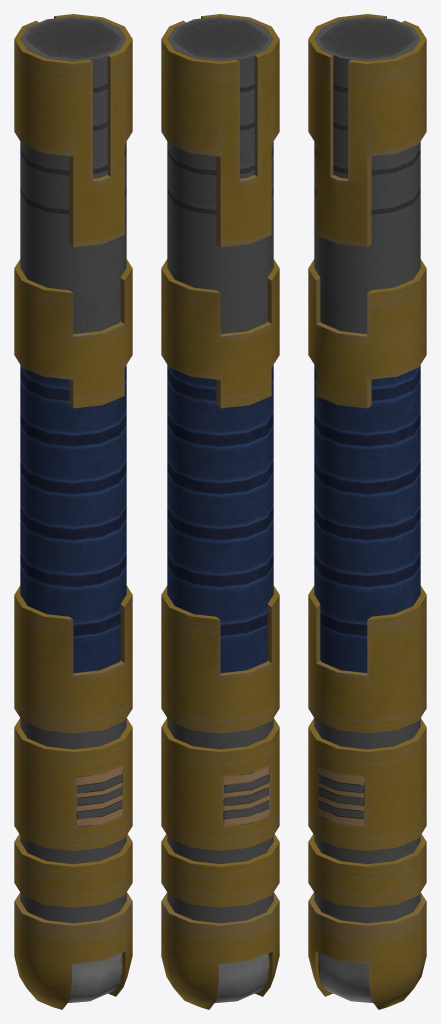
Rendered from vibroblade_grip.fbx.
The picture shows the model from 3 angles, left to right: view 1: azimuth 30°, elevation 25°; view 2: azimuth 210°, elevation 25°; view 3: azimuth 330°, elevation 25°; orthographic projection.
Parts seen in each view (by area): view 1: vibroblade_grip; view 2: vibroblade_grip; view 3: vibroblade_grip.
Boxes of the visible parts, left/top/right/bottom form: vibroblade_grip: left=14, top=14, right=132, bottom=1009; vibroblade_grip: left=161, top=14, right=279, bottom=1009; vibroblade_grip: left=308, top=14, right=426, bottom=1009.
Size of the model in its own units: 4.16 by 37.16 by 4.16.
